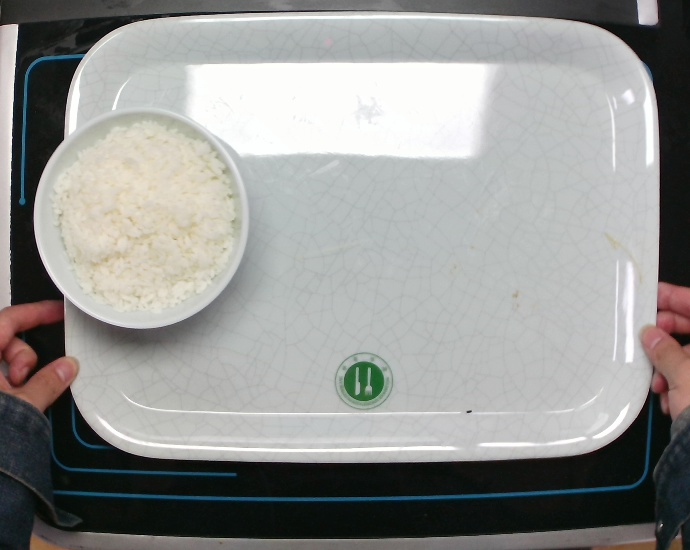JYsf-Fan_Wan: (32, 104, 251, 331)
